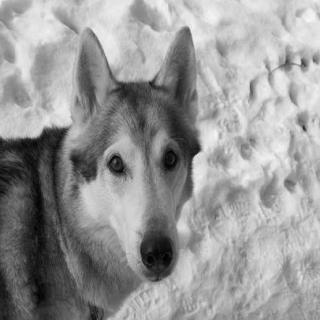dog: (64, 18, 203, 290)
nose: (135, 231, 180, 276)
